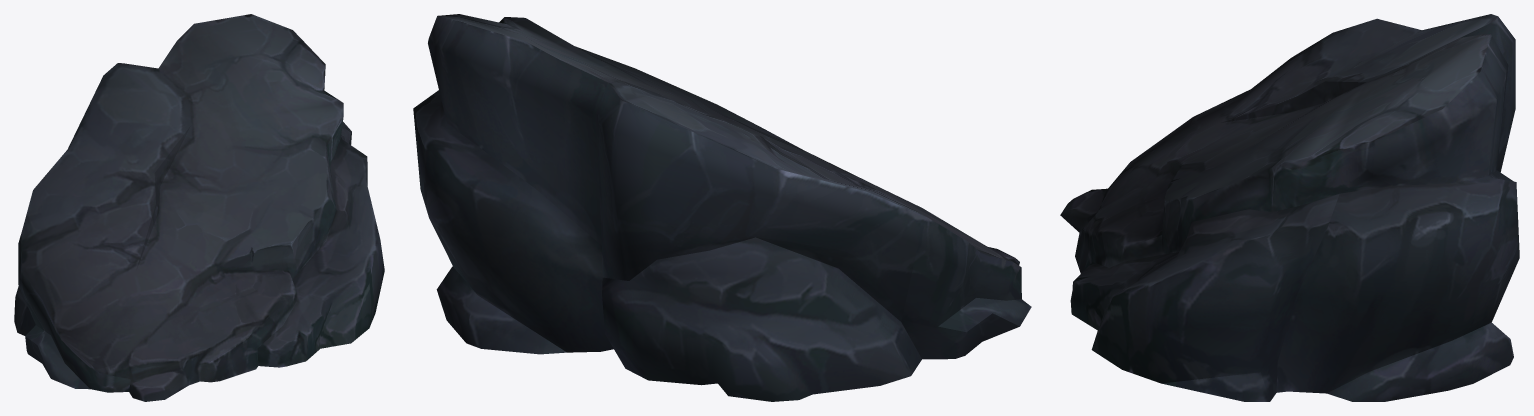
File: sanhj_stone_02.FBX
3 views of the same model, side by side, from view 1: azimuth 30°, elevation 25°; view 2: azimuth 150°, elevation 25°; view 3: azimuth 270°, elevation 25° (orthographic). The views are drawn at different scales.
Visible parts, largest first — view 1: xueshan_st_10; view 2: xueshan_st_10; view 3: xueshan_st_10.
Boxes of the visible parts, x1,y1,x2,y2 form: xueshan_st_10: (14,14,384,401); xueshan_st_10: (413,14,1031,401); xueshan_st_10: (1060,14,1519,401).
Size of the model in its own units: 12.08 by 7.23 by 9.85.
